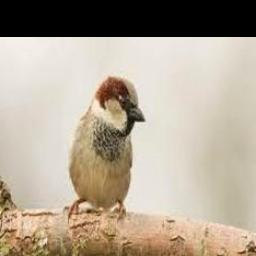Sparrow: (65, 76, 146, 225)
